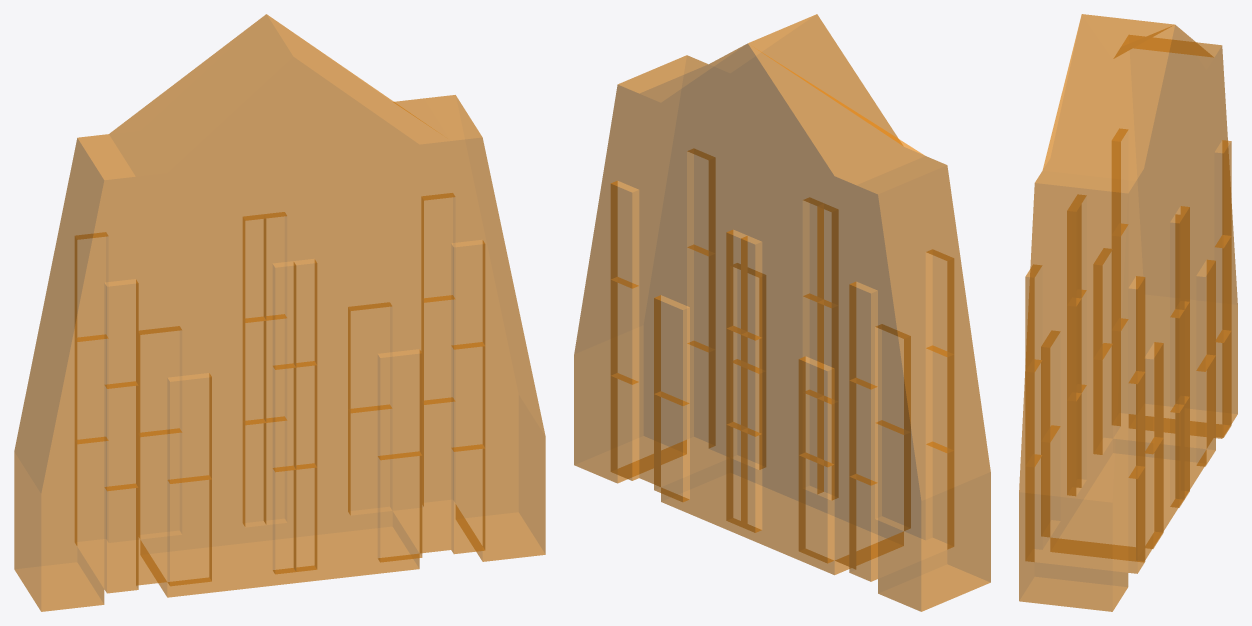
File: shieldFade.fbx
The picture shows the model from 3 angles, left to right: view 1: azimuth 30°, elevation 25°; view 2: azimuth 150°, elevation 25°; view 3: azimuth 270°, elevation 25°; orthographic projection. The views are drawn at different scales.
Parts seen in each view (by area): view 1: Cube; view 2: Cube; view 3: Cube.
Boxes of the visible parts, <box> form: Cube: <box>14,14,545,611</box>; Cube: <box>574,14,990,611</box>; Cube: <box>1019,14,1237,611</box>.
Bounding box in the file's own units: 155 × 169 × 68.69.
